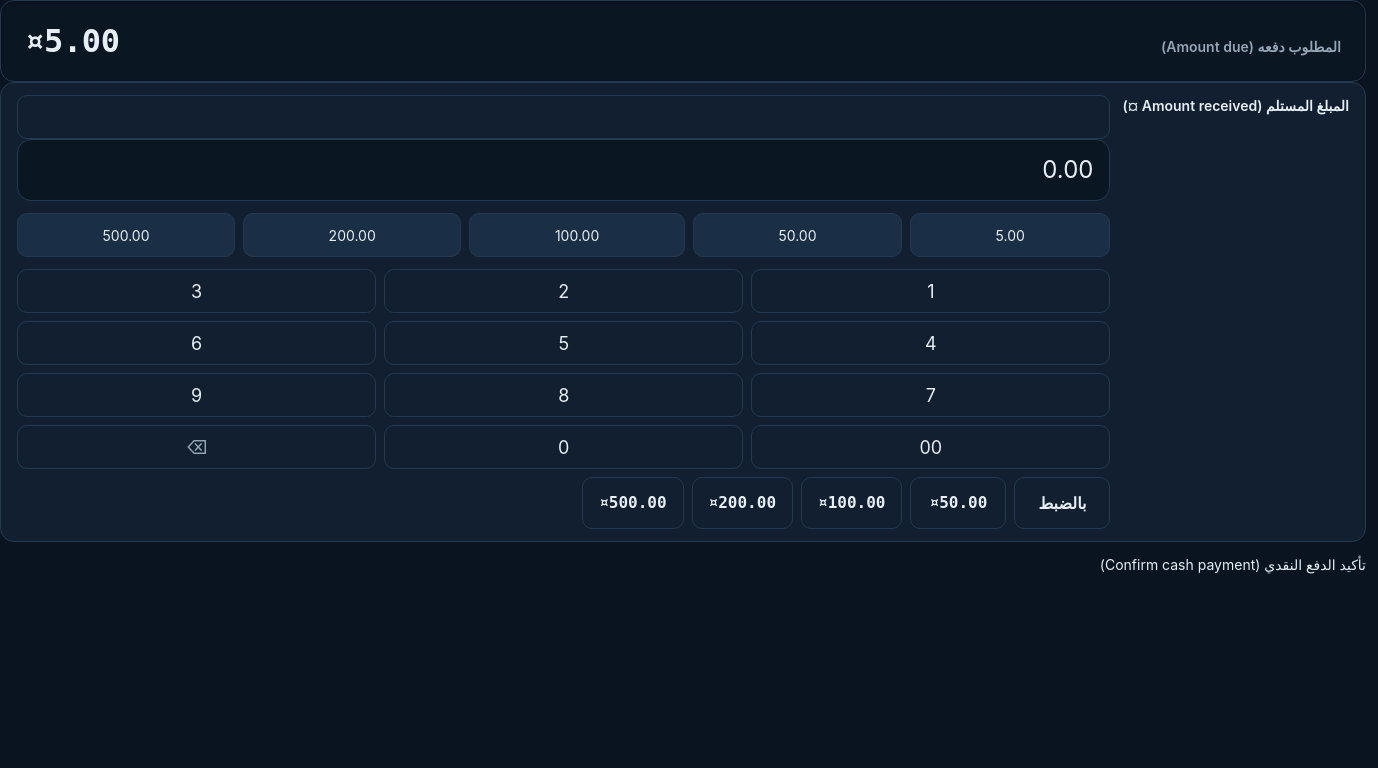
CashEntry — tender.apply wiring (T151) › renders generic refusal copy on { kind: refused }
Type "5.00" into the field with test id "cash-entry-amount-input" at (564, 117), box [17, 95, 1110, 139]
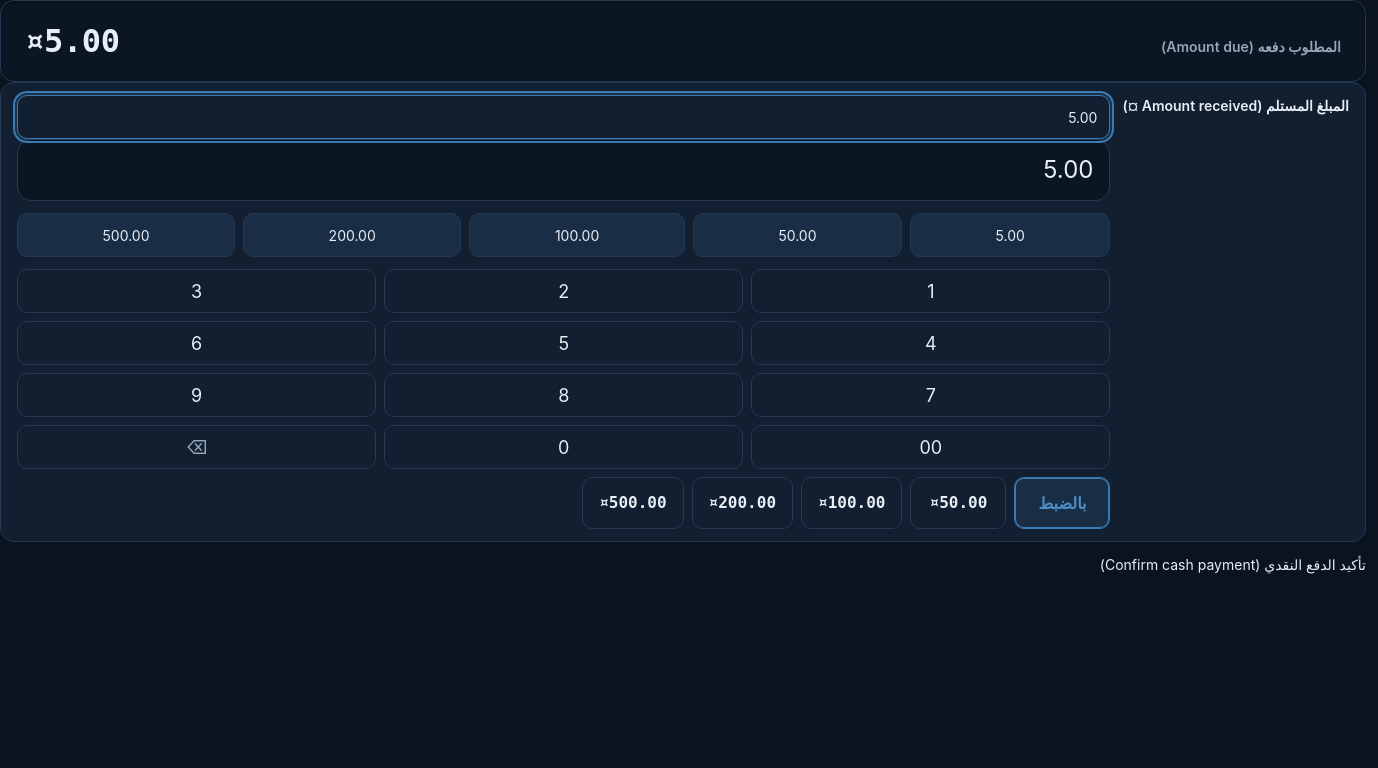
Click the button with test id "cash-entry-confirm" at (1233, 564), box [1100, 542, 1366, 586]
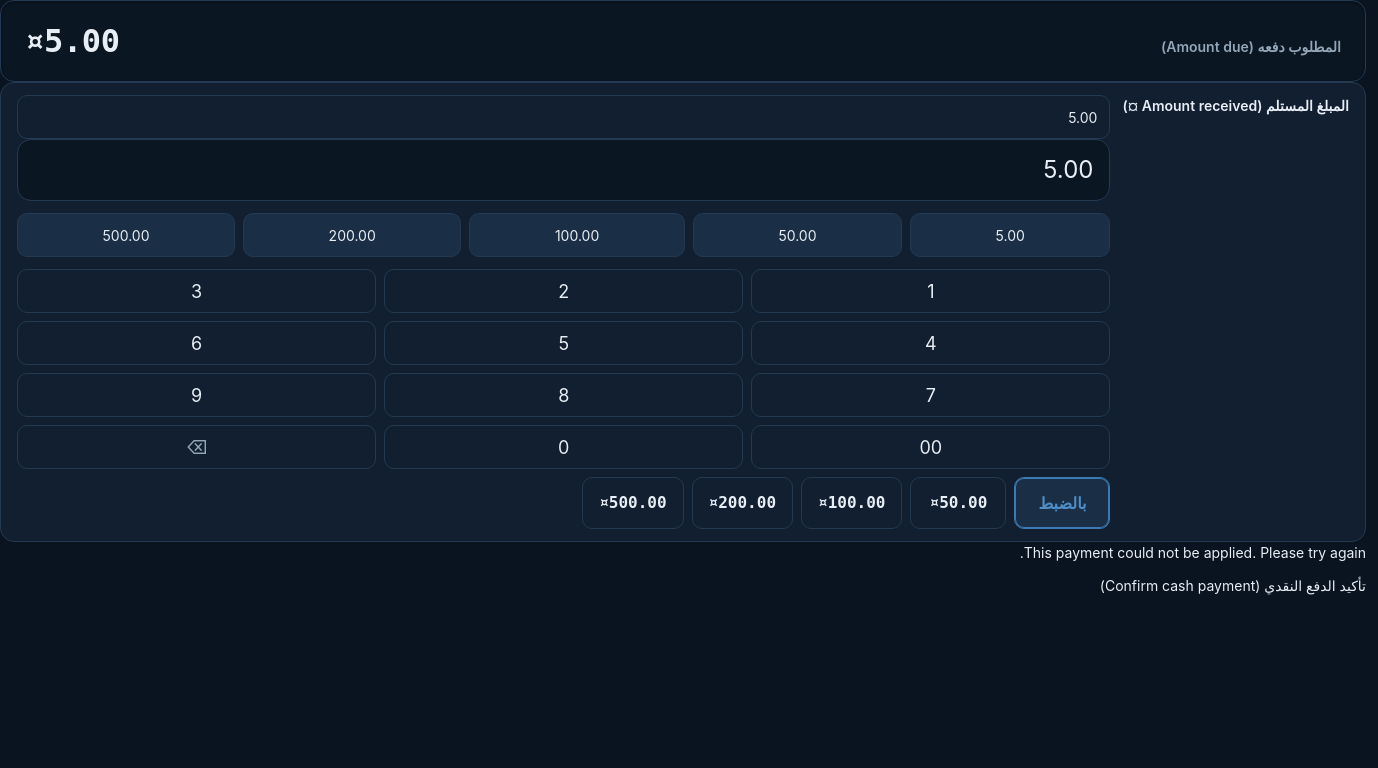
Expected: the message with test id "cash-entry-bridge-refusal" reads "This payment could not be applied. Please try again.", [1020, 544, 1366, 561]
